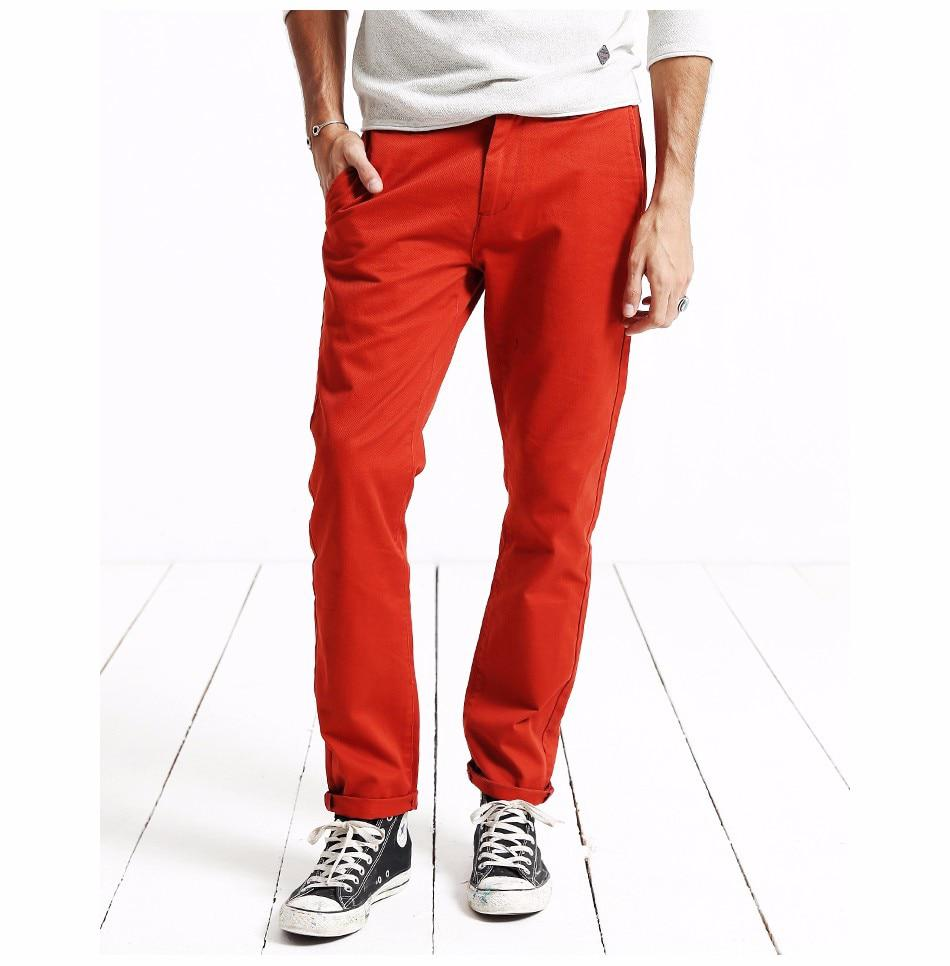pants: (301, 106, 643, 814)
